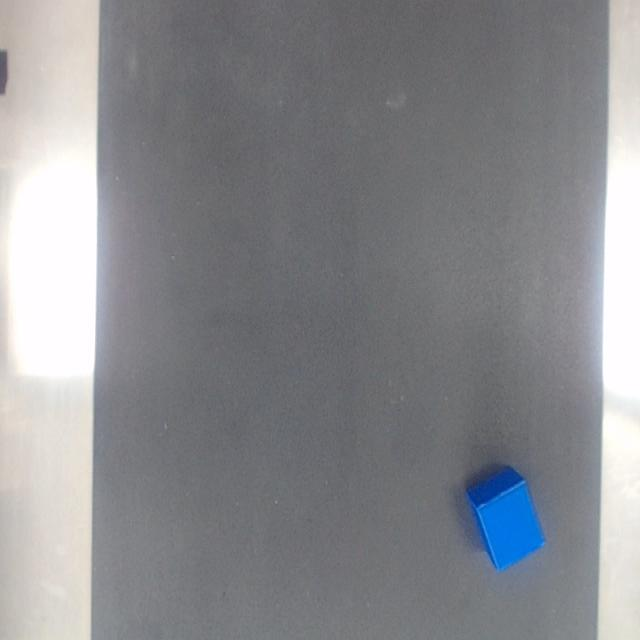Azul: (466, 468, 544, 571)
